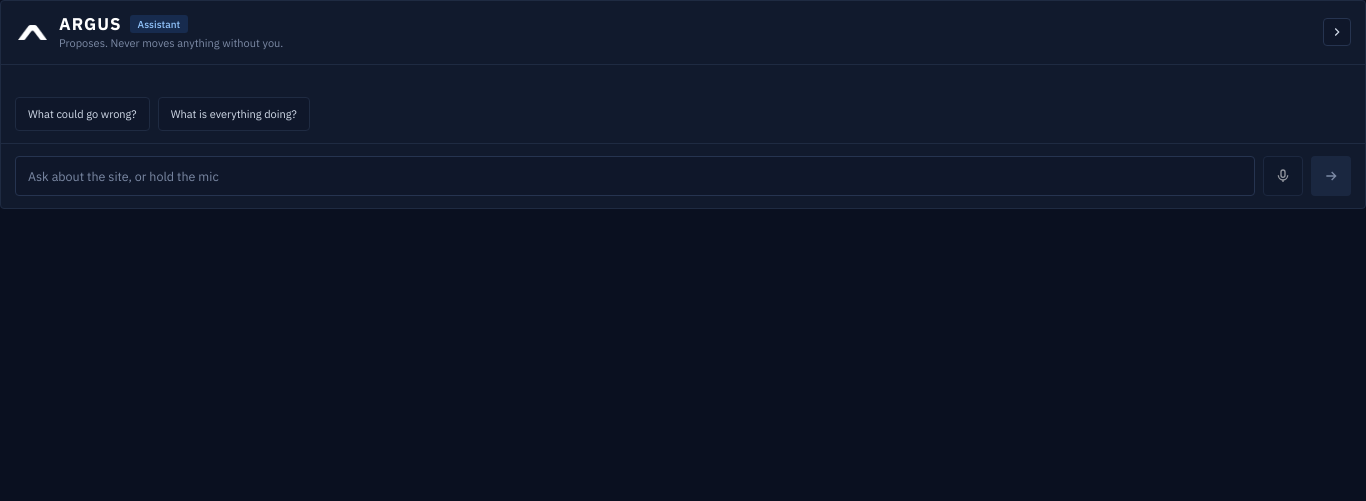
Test: an order typed to the assistant › is previewed by the world model and drawn, and nothing is sent
The image size is (1366, 501).
In the field: (635, 176) [15,156,1255,196], type "patrol the north fence with Tessy"
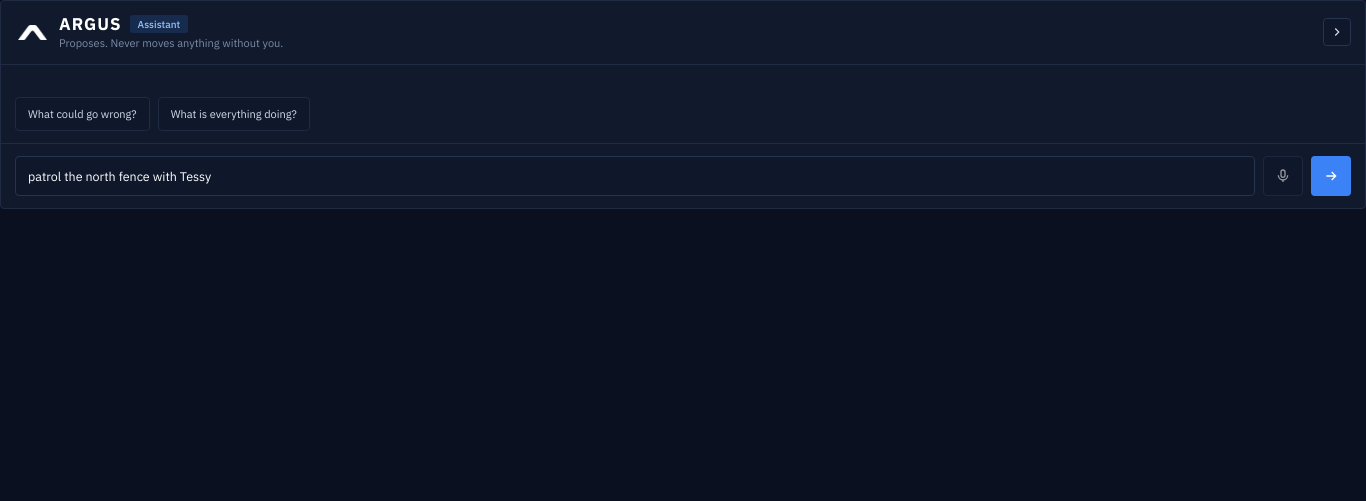
Submit the form, box [1,143,1365,208]
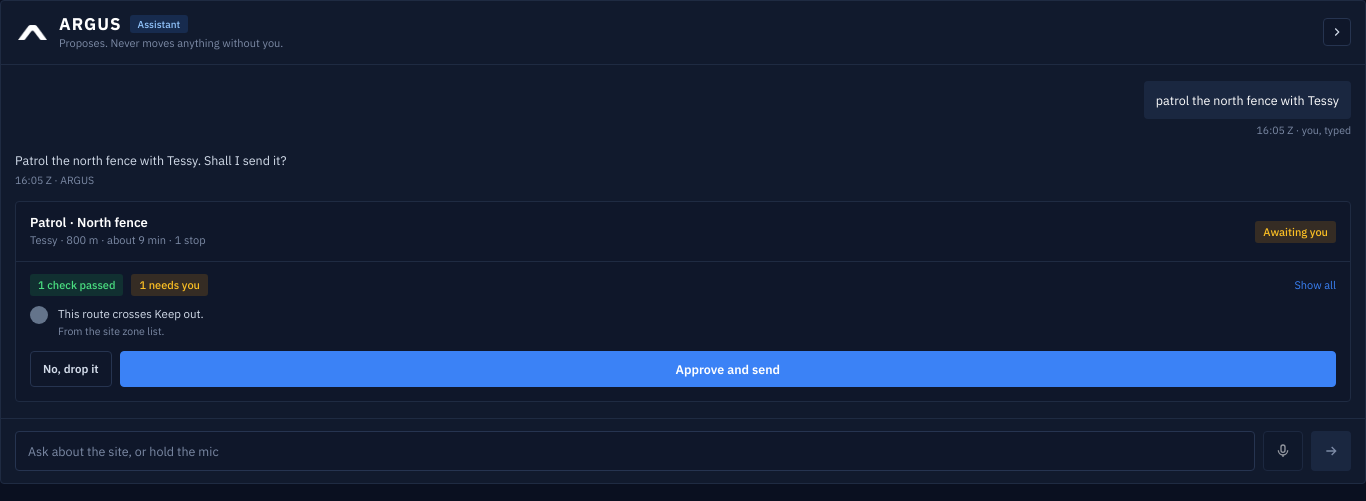
Now the button "Approve and send" is shown, box [120,351,1336,387]
Now the text "This route crosses Keep out." is shown, box [58,306,204,322]
Now the text "From the site zone list." is shown, box [58,324,164,338]
